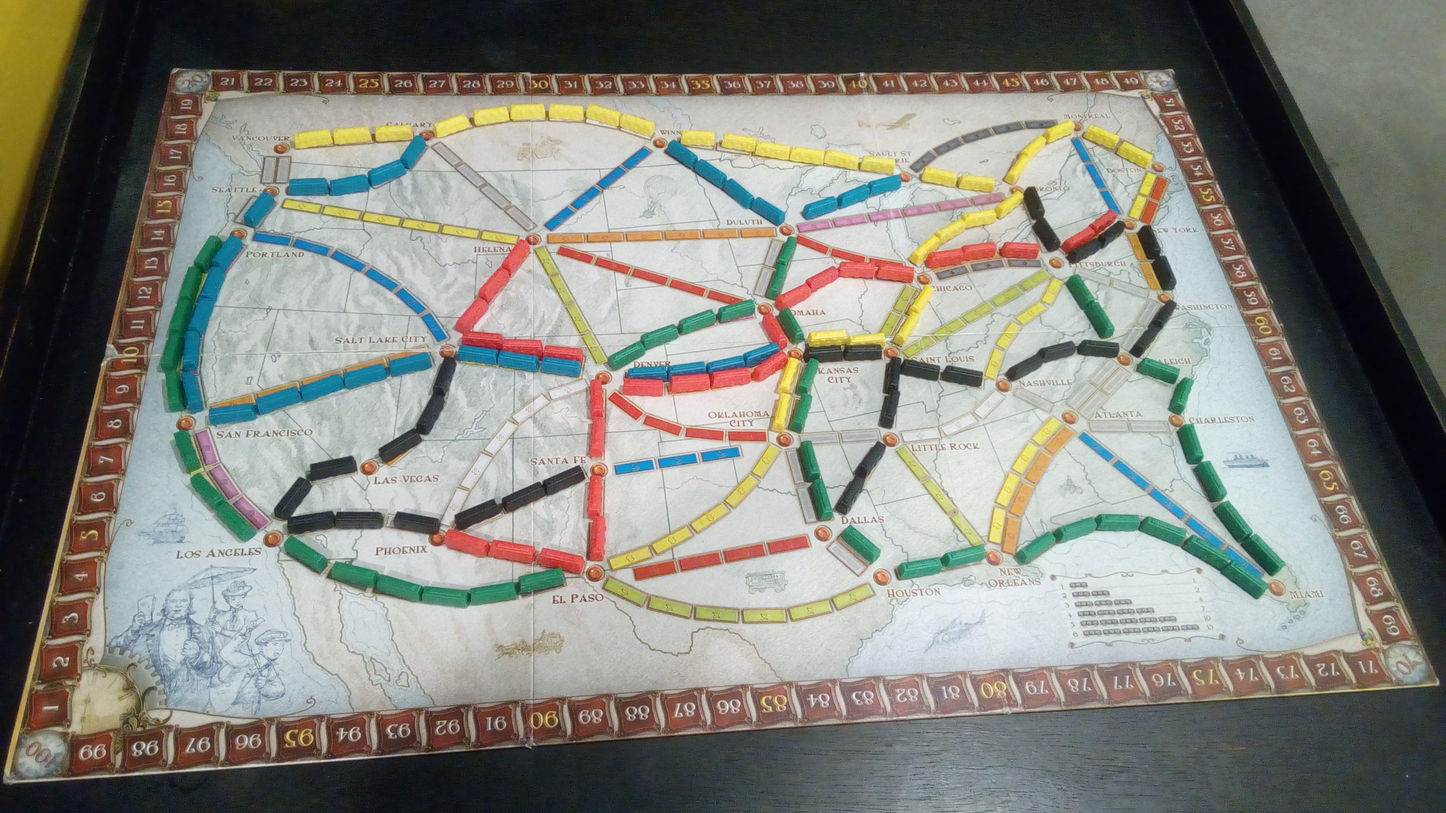corner_bl: (6, 730, 69, 776)
corner_br: (1385, 642, 1438, 687)
corner_tl: (167, 69, 214, 90)
corner_tr: (1144, 71, 1178, 92)
